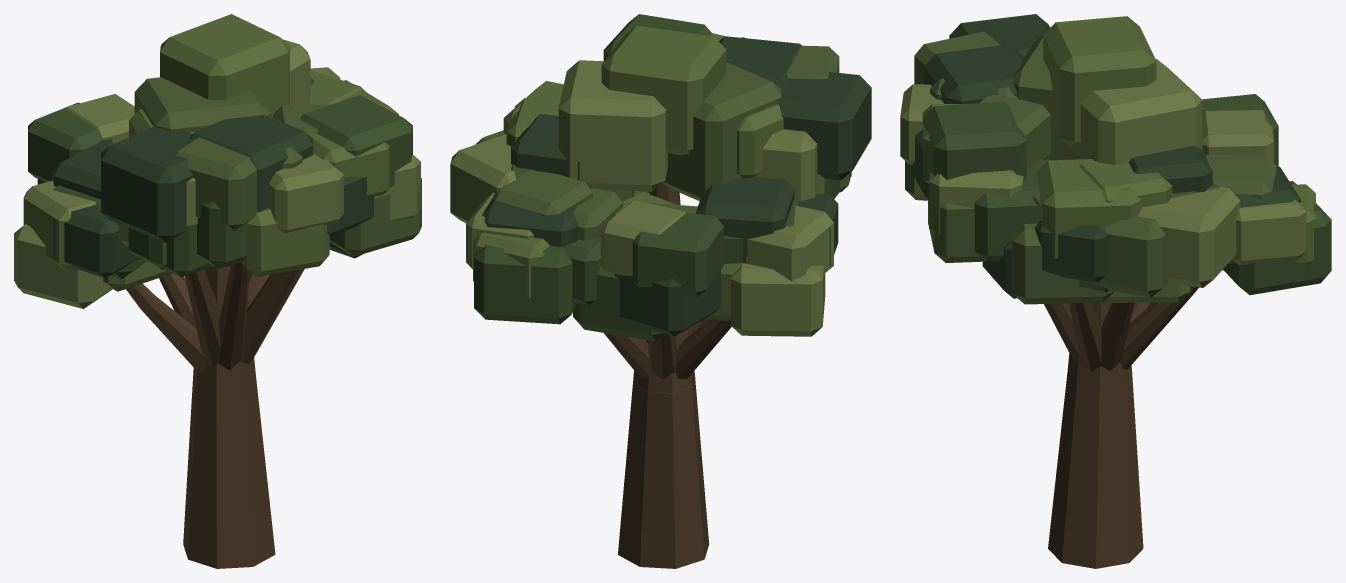
The model's file is oak_mature_2.glb.
3 renders of one model, left to right at view 1: azimuth 30°, elevation 25°; view 2: azimuth 150°, elevation 25°; view 3: azimuth 270°, elevation 25°, orthographic.
Parts seen in each view (by area): view 1: oak_mature_2; view 2: oak_mature_2; view 3: oak_mature_2.
Boxes of the visible parts, left/top/right/bottom form: oak_mature_2: left=14, top=14, right=421, bottom=568; oak_mature_2: left=450, top=14, right=871, bottom=568; oak_mature_2: left=900, top=14, right=1331, bottom=568.
Bounding box in the file's own units: 12.19 × 17 × 13.01.
